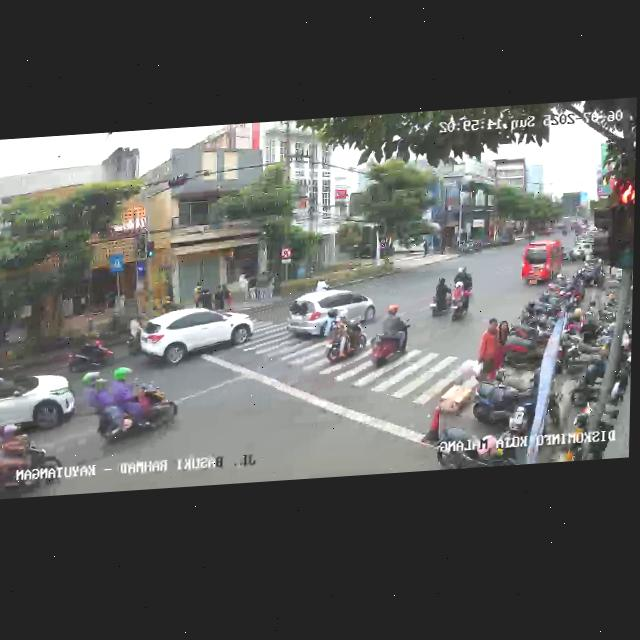car: (139, 304, 254, 371), (0, 365, 76, 438), (286, 286, 376, 340), (521, 238, 564, 286)
motorcycle: (80, 362, 179, 449), (0, 420, 63, 499), (368, 303, 412, 370), (324, 306, 368, 364), (68, 333, 116, 374), (429, 276, 453, 320), (126, 316, 150, 357), (450, 280, 472, 322), (453, 265, 473, 292), (316, 276, 332, 294)
person: (477, 318, 500, 382), (491, 319, 512, 385), (237, 273, 250, 304), (222, 283, 232, 312), (214, 285, 224, 311), (249, 274, 258, 301), (194, 281, 202, 308), (204, 288, 212, 309)
